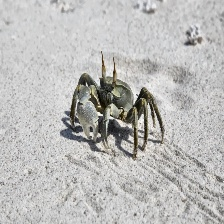crab: (68, 72, 102, 139)
